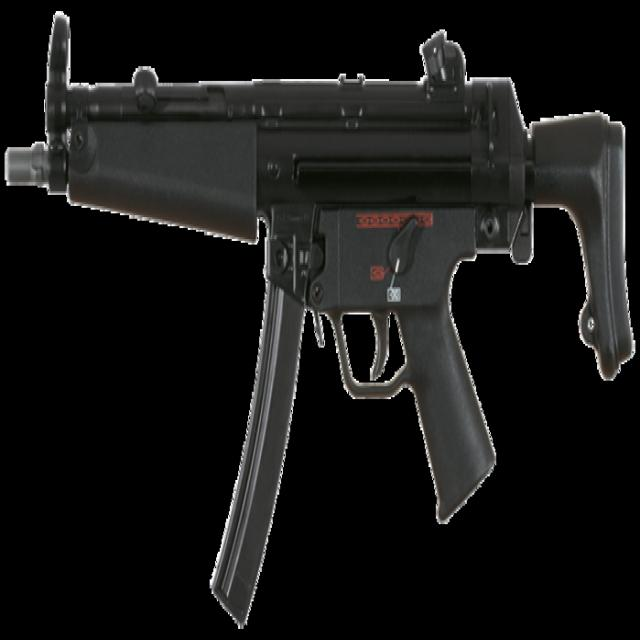SMG: (0, 11, 640, 633)
